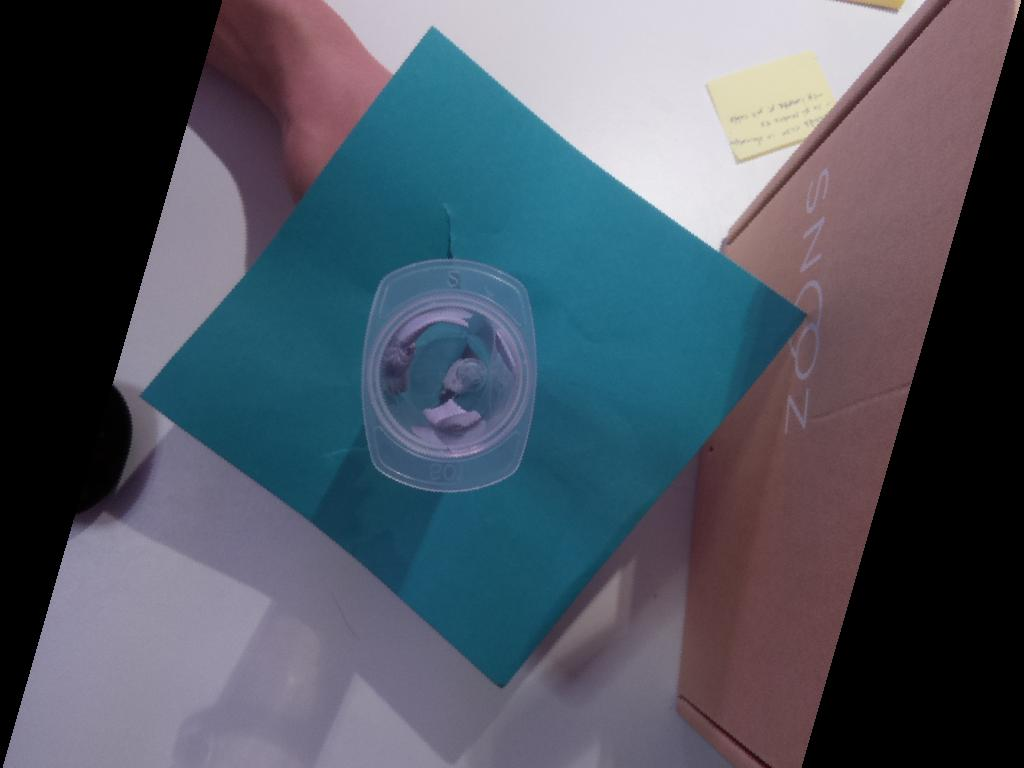dirty: (361, 258, 537, 493)
